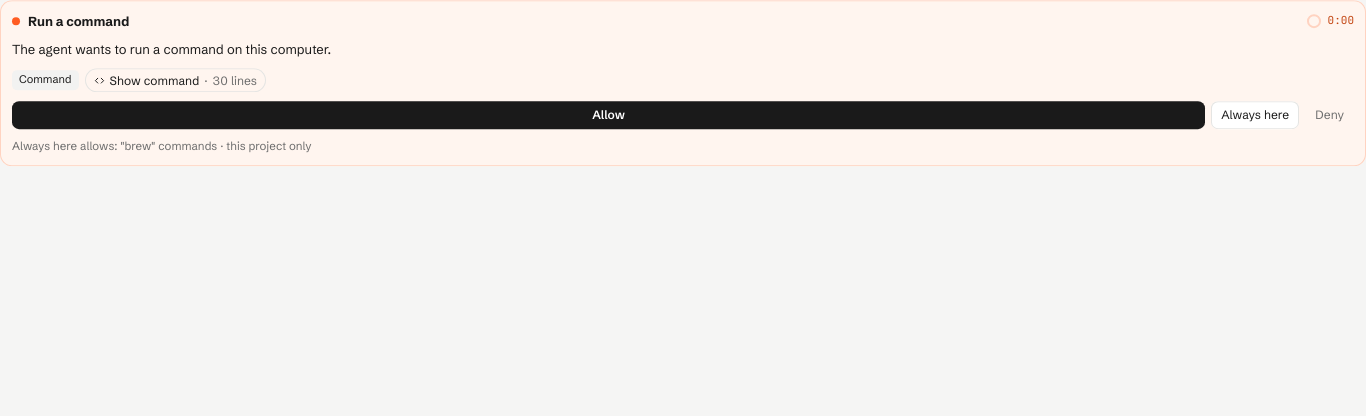
it: ApprovalCard › shows the whole long command wrapped inside the card, with its line count
Click the button "Show command 30 lines" at [175, 80], box [84, 68, 266, 92]
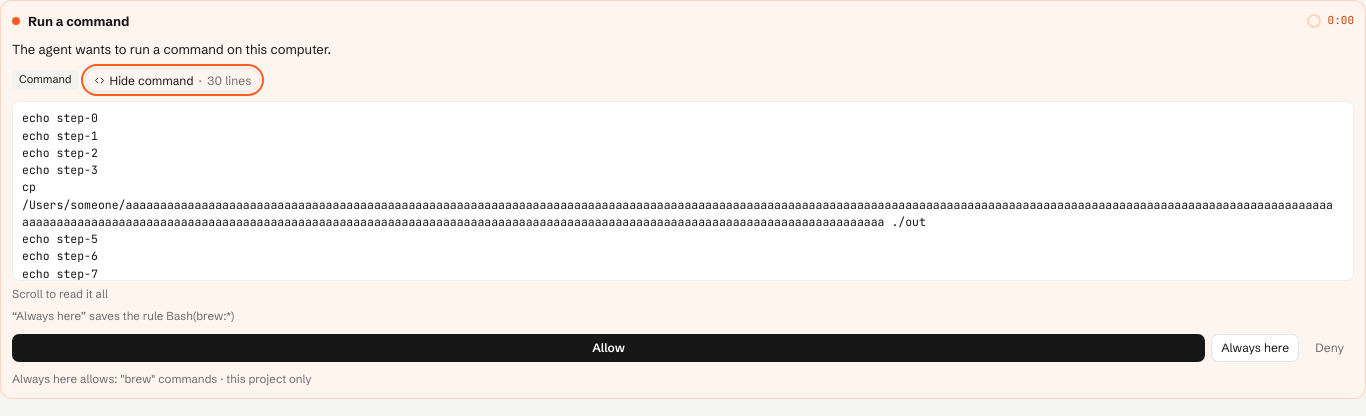
Expected: the button named "Show command" is expanded, [84, 68, 260, 92]
Expected: the text "Scroll to read it all" is shown, [12, 287, 108, 301]
